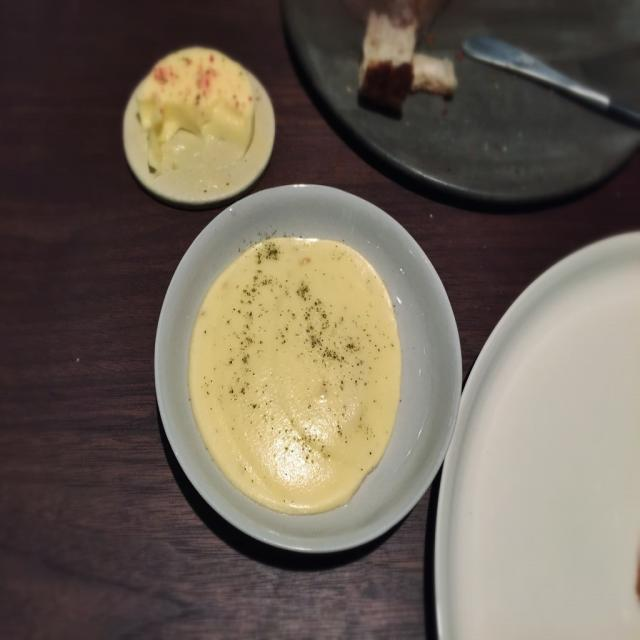ceramic plate: (185, 133, 456, 567)
